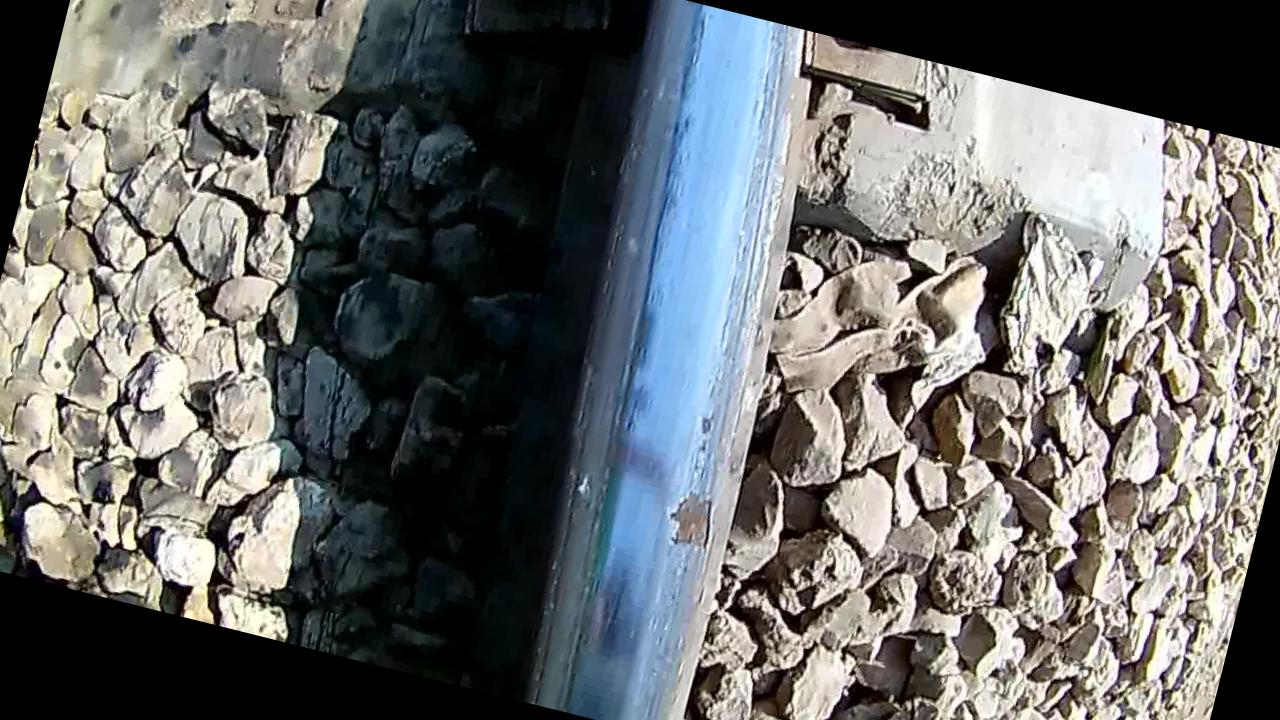crack: (500, 6, 836, 720)
